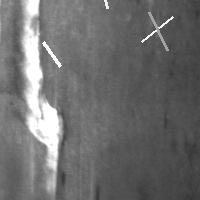scratches: (16, 1, 64, 198), (136, 12, 177, 47), (144, 7, 172, 55), (38, 37, 65, 71), (171, 137, 196, 170), (94, 0, 112, 13)
